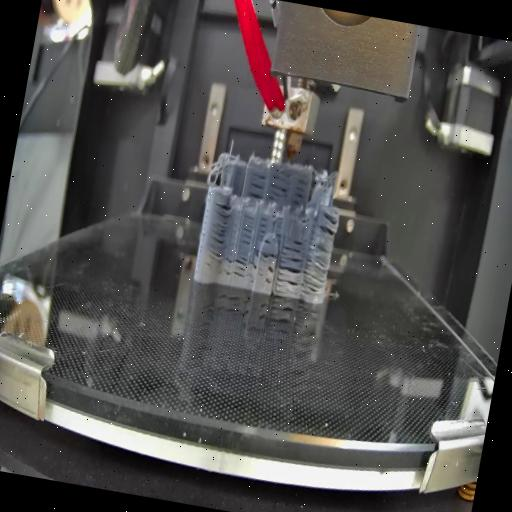cracks: (272, 234, 308, 294), (299, 241, 332, 296), (204, 201, 232, 264), (220, 254, 256, 282), (266, 170, 292, 206), (313, 207, 340, 235), (246, 169, 269, 200), (290, 176, 308, 207), (238, 214, 254, 246), (252, 248, 278, 261), (264, 262, 276, 288), (256, 214, 268, 236), (274, 216, 284, 240), (262, 235, 273, 246)
